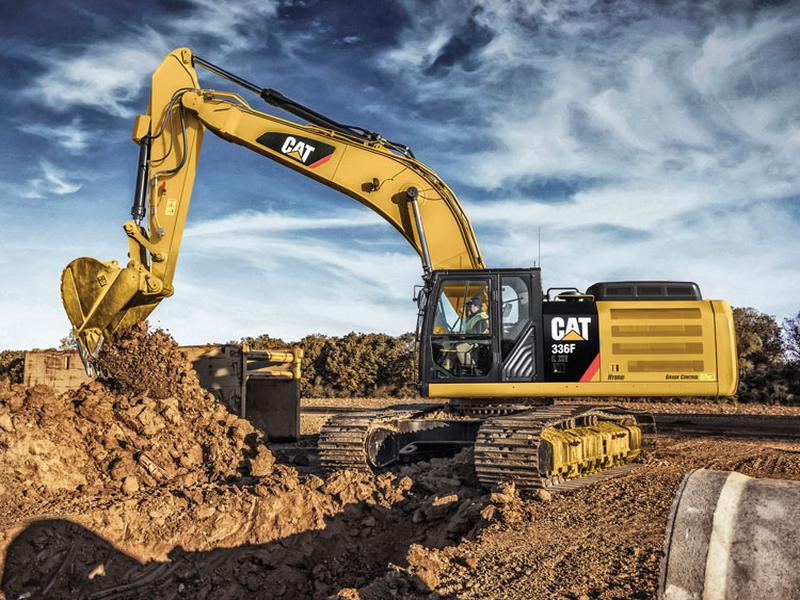shovel: (52, 42, 744, 496)
